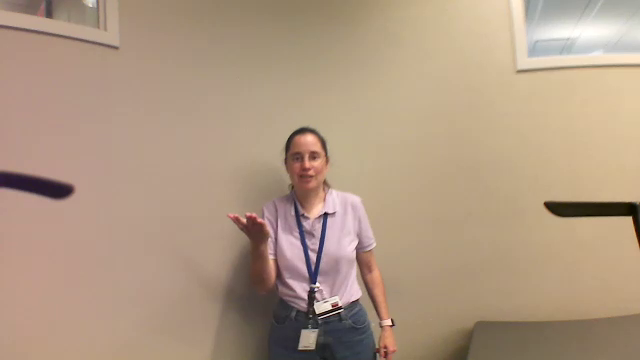land: (219, 205, 279, 248)
